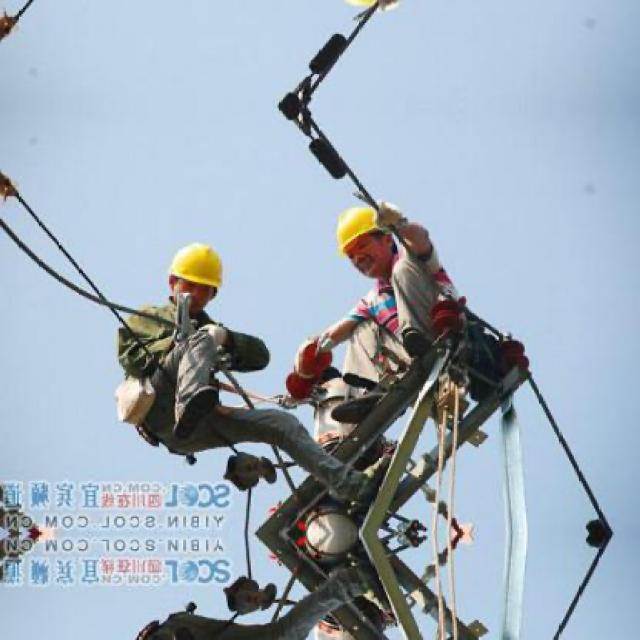helmet: (164, 238, 230, 316), (328, 202, 390, 278)
